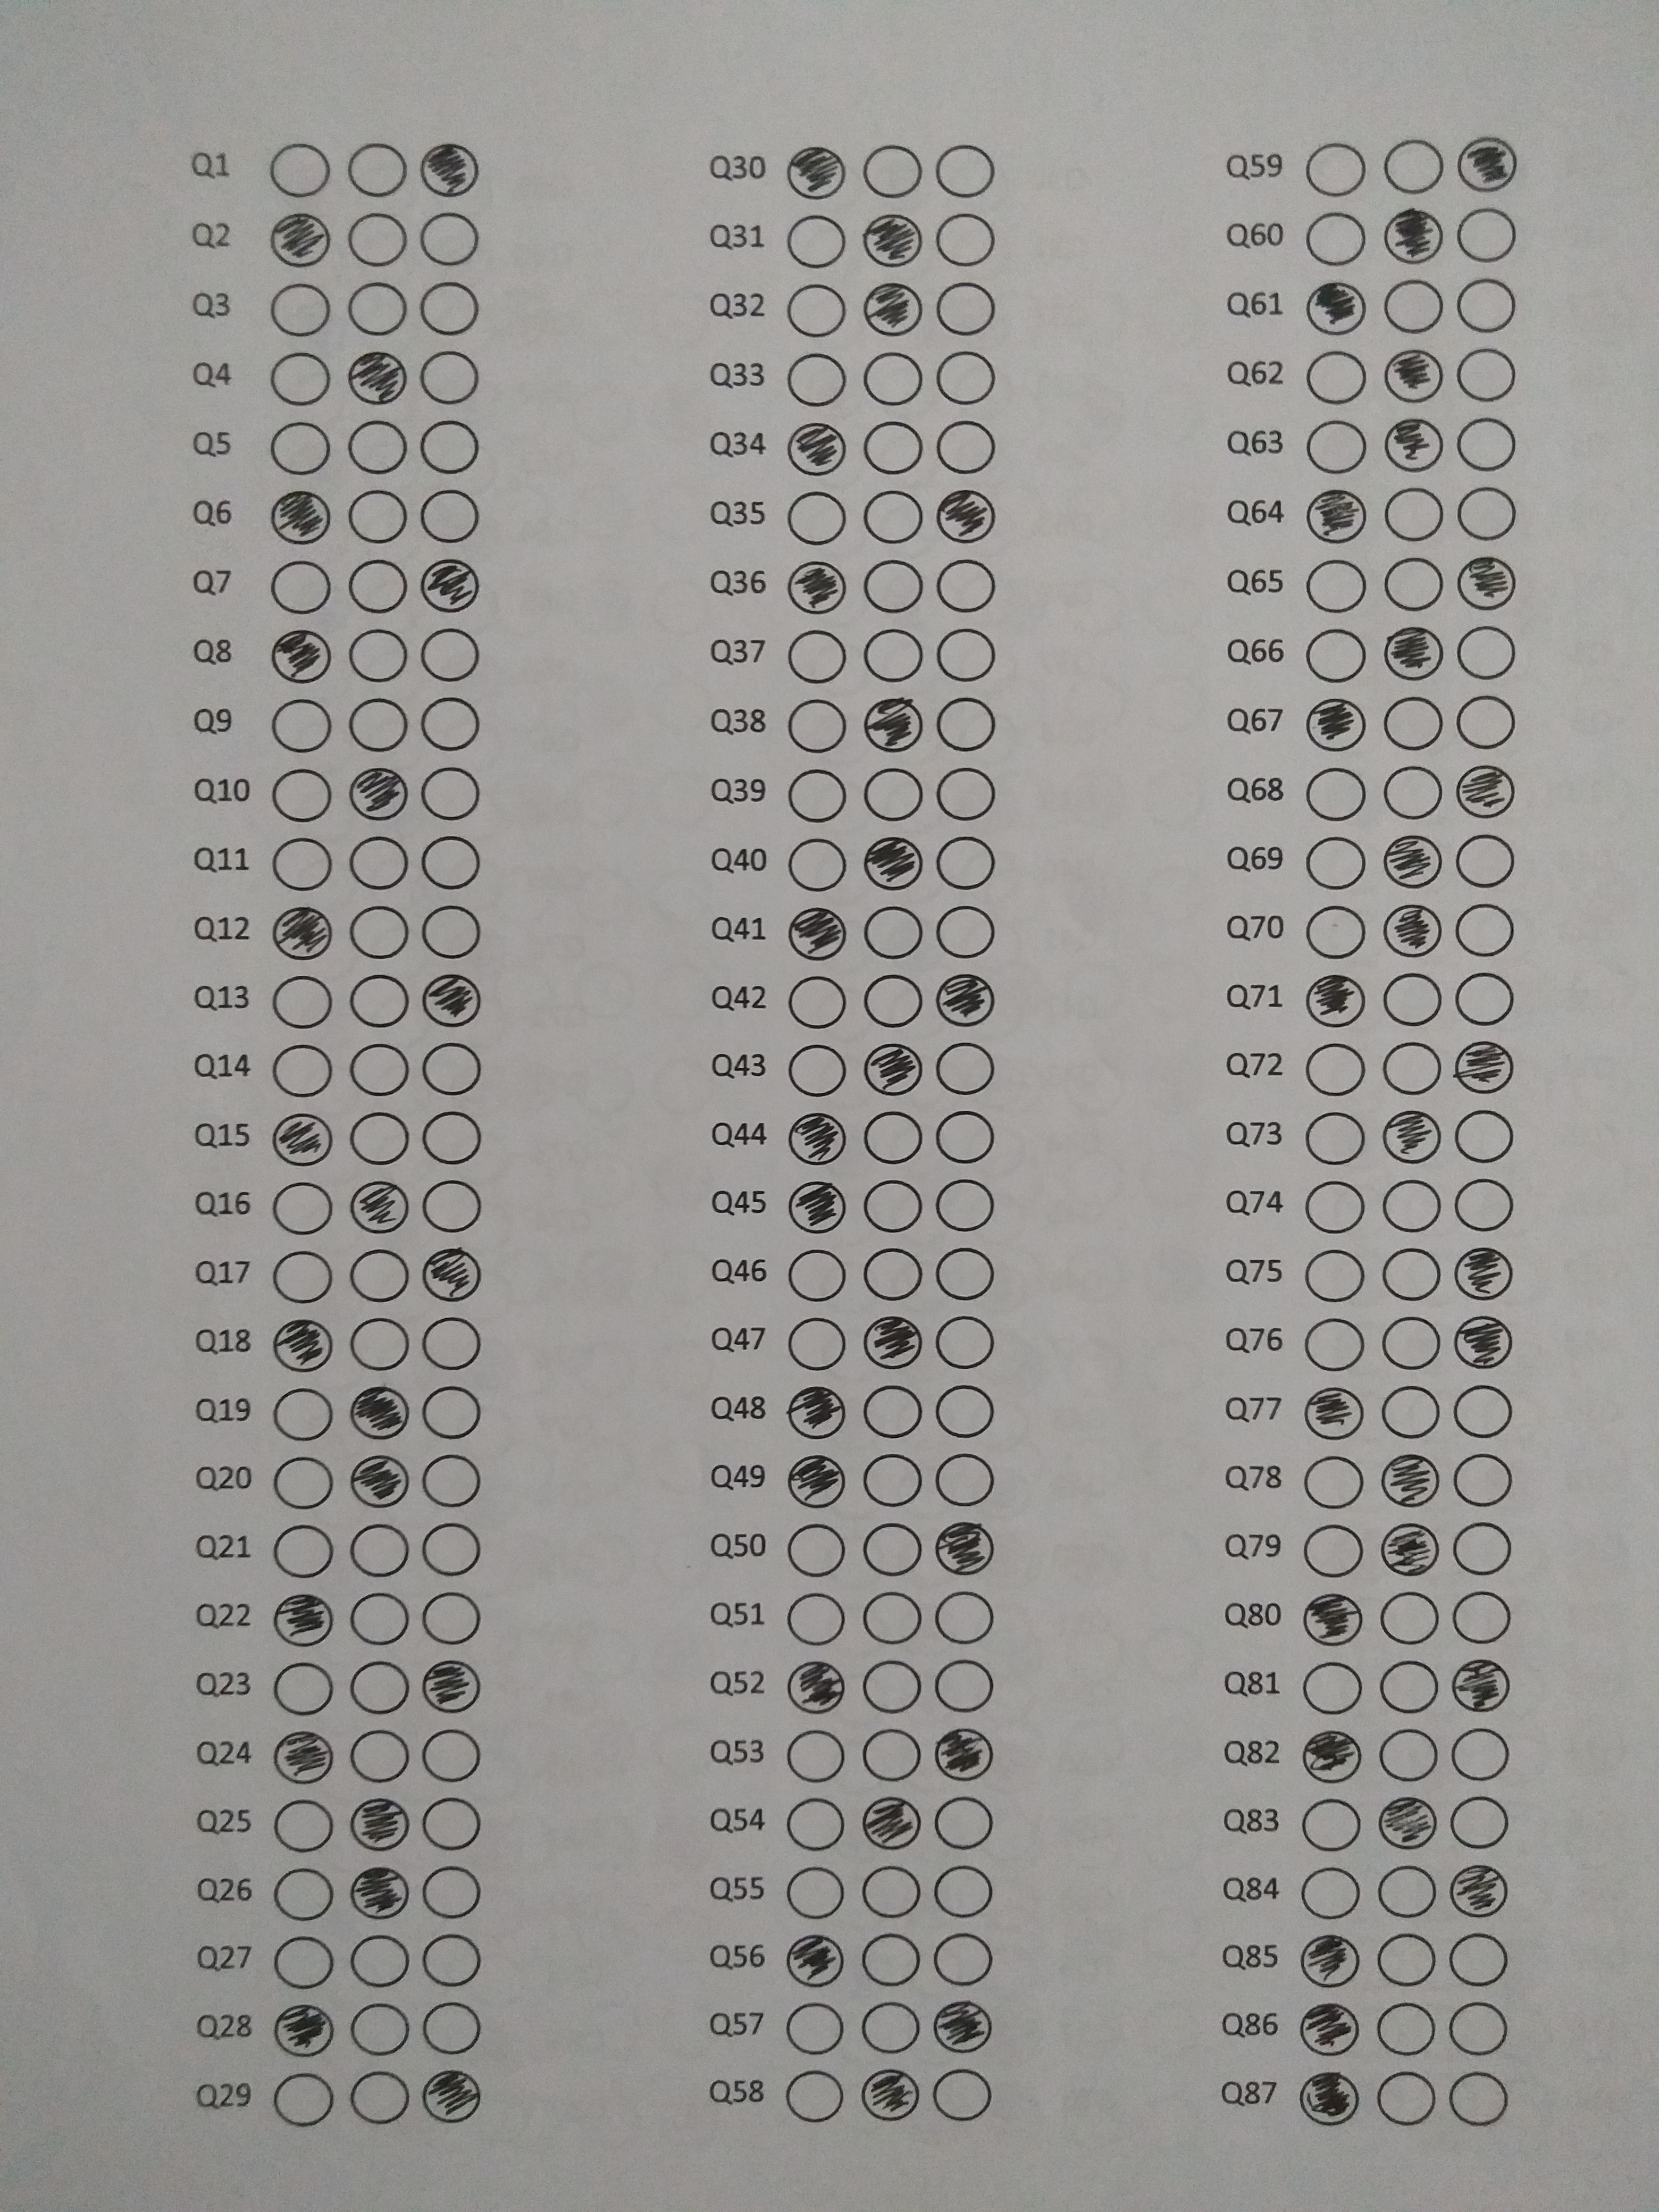not-c: (420, 1176, 484, 1233), (784, 697, 849, 754), (782, 489, 847, 547), (347, 1109, 411, 1167), (418, 1106, 483, 1163), (349, 972, 413, 1029), (345, 900, 410, 958), (270, 766, 335, 824), (270, 697, 335, 754), (343, 486, 408, 543), (416, 350, 481, 408), (345, 416, 410, 474), (268, 348, 333, 406), (268, 282, 333, 340), (416, 280, 481, 338), (349, 1933, 413, 1991), (270, 1864, 335, 1921), (272, 1797, 336, 1855), (418, 1792, 483, 1850), (420, 1726, 484, 1784), (347, 1726, 411, 1784), (347, 1658, 411, 1716), (272, 1658, 336, 1716), (349, 1521, 413, 1578), (420, 1454, 484, 1512), (418, 1381, 483, 1439), (347, 2069, 411, 2127), (782, 2000, 847, 2057), (861, 1998, 925, 2055), (857, 1177, 922, 1235), (857, 1247, 922, 1305), (932, 1315, 997, 1372), (782, 1245, 847, 1303), (782, 1315, 847, 1372), (932, 1383, 997, 1440), (859, 1521, 924, 1578), (931, 1588, 995, 1646), (931, 1656, 995, 1714), (782, 1728, 847, 1785), (932, 1930, 997, 1987), (1302, 143, 1366, 200), (932, 211, 997, 268), (859, 421, 924, 479), (936, 420, 1000, 477), (863, 625, 927, 683), (936, 766, 1000, 824), (861, 906, 925, 963), (861, 972, 925, 1029), (1378, 968, 1443, 1026), (1450, 970, 1514, 1028), (1453, 900, 1518, 958), (1303, 629, 1368, 686), (1305, 418, 1370, 475), (1453, 347, 1518, 404), (1452, 207, 1516, 265), (1446, 1930, 1511, 1987), (1297, 1797, 1361, 1855), (1448, 1794, 1513, 1851), (1377, 1658, 1441, 1716), (1375, 1590, 1439, 1648), (1452, 1108, 1516, 1165), (1378, 1038, 1443, 1096), (1378, 1247, 1443, 1305), (1305, 1177, 1370, 1235), (1450, 1176, 1514, 1233), (1302, 1111, 1366, 1169), (1373, 2069, 1438, 2127), (1373, 1932, 1438, 1989), (268, 141, 331, 199), (781, 629, 843, 686), (349, 1042, 411, 1099), (420, 834, 483, 892), (420, 902, 483, 960), (420, 625, 483, 683), (345, 625, 408, 683), (418, 486, 481, 543), (345, 279, 408, 336), (420, 211, 483, 268), (345, 141, 408, 199), (274, 1932, 336, 1989), (420, 1864, 483, 1921), (349, 1588, 411, 1646), (422, 1312, 484, 1369), (418, 1996, 481, 2054), (861, 1109, 924, 1167), (934, 1176, 997, 1233), (786, 1590, 849, 1648), (934, 1796, 997, 1853), (786, 1797, 849, 1855), (859, 1862, 922, 1919), (784, 2066, 847, 2123), (1450, 2069, 1513, 2127), (1305, 348, 1368, 406), (861, 143, 924, 200), (934, 280, 997, 338), (863, 765, 925, 822), (934, 693, 997, 751), (934, 902, 997, 960), (789, 974, 852, 1031), (1303, 834, 1366, 892), (1382, 763, 1445, 820), (1452, 691, 1514, 749), (1380, 695, 1443, 752), (1455, 486, 1518, 543), (1305, 557, 1368, 615), (1382, 554, 1445, 611), (1380, 277, 1443, 334), (1455, 275, 1518, 333), (1375, 1862, 1438, 1919), (1300, 1864, 1363, 1921), (1453, 1521, 1516, 1578), (1380, 1385, 1443, 1442), (1380, 1313, 1443, 1371), (1303, 1247, 1366, 1305), (1380, 1177, 1443, 1235), (1375, 2000, 1438, 2057), (1448, 2000, 1511, 2057), (781, 838, 845, 894), (782, 766, 847, 822), (268, 1181, 333, 1237), (270, 974, 335, 1029), (270, 838, 335, 894), (349, 833, 413, 888), (418, 766, 483, 822), (345, 697, 410, 752), (268, 559, 333, 615), (415, 420, 479, 475), (267, 421, 331, 477), (345, 211, 410, 266), (418, 1521, 483, 1576), (272, 1522, 336, 1578), (272, 1386, 336, 1442), (268, 1249, 333, 1305), (270, 2071, 335, 2127), (347, 2000, 411, 2055), (422, 1933, 486, 1989), (931, 2067, 995, 2123), (932, 1040, 997, 1096), (788, 1043, 852, 1099), (932, 1454, 997, 1510), (861, 1453, 925, 1508), (784, 1522, 849, 1578), (857, 1590, 922, 1646), (857, 1658, 922, 1714), (784, 1862, 849, 1918), (861, 491, 925, 547), (931, 143, 995, 199), (784, 282, 849, 338), (784, 354, 849, 409), (857, 350, 922, 406), (1298, 214, 1363, 270), (861, 557, 925, 613), (1305, 904, 1370, 960), (1453, 833, 1518, 888), (1453, 415, 1518, 470), (1382, 138, 1446, 193), (1300, 1662, 1364, 1717), (1448, 1590, 1513, 1646), (1302, 1524, 1366, 1580), (1303, 1042, 1368, 1097), (1448, 1454, 1513, 1510), (1452, 1383, 1516, 1439), (420, 1042, 483, 1097), (272, 1043, 335, 1099), (418, 693, 481, 749), (347, 557, 410, 613), (423, 1590, 486, 1646), (274, 1454, 336, 1510), (349, 1315, 411, 1371), (347, 1247, 410, 1303), (861, 1932, 924, 1987), (932, 1111, 995, 1167), (936, 1249, 999, 1305), (1303, 1454, 1366, 1510), (857, 1726, 920, 1782), (932, 1864, 995, 1919), (784, 214, 847, 270), (934, 350, 997, 406), (932, 627, 995, 683), (934, 557, 997, 613), (934, 836, 997, 892), (1303, 765, 1366, 820), (1455, 624, 1518, 679), (1391, 1731, 1453, 1787), (1448, 1723, 1511, 1778), (1302, 1317, 1364, 1372), (1382, 486, 1443, 542)
taken-c: (1455, 132, 1520, 197), (1452, 1313, 1514, 1374), (859, 1792, 924, 1851), (1297, 2071, 1361, 2130), (1380, 1106, 1445, 1165), (1303, 486, 1368, 545), (1382, 415, 1446, 474), (268, 489, 335, 547), (268, 906, 335, 963), (268, 1111, 335, 1169), (270, 1590, 336, 1648), (1373, 1792, 1439, 1850), (1452, 1245, 1518, 1303), (1380, 624, 1446, 681), (863, 279, 924, 340), (1455, 1036, 1516, 1097), (272, 627, 335, 686), (418, 970, 481, 1029), (349, 1383, 411, 1442), (1380, 1451, 1443, 1510), (1305, 695, 1368, 754), (1307, 279, 1370, 338), (1384, 207, 1446, 266), (416, 141, 481, 199), (863, 697, 927, 754), (270, 1317, 335, 1374), (863, 1040, 927, 1097), (418, 2067, 483, 2125), (1297, 2001, 1361, 2059), (1300, 1730, 1364, 1787), (1382, 904, 1446, 961), (857, 212, 924, 268), (782, 1454, 849, 1510), (274, 1728, 335, 1787), (934, 1519, 995, 1578), (786, 906, 849, 963), (934, 488, 997, 545), (786, 420, 849, 477), (786, 145, 849, 202), (422, 1245, 484, 1303), (786, 1385, 849, 1442), (786, 561, 850, 617), (347, 1796, 411, 1851), (1382, 833, 1446, 888), (1453, 765, 1518, 820), (267, 212, 333, 266), (861, 838, 927, 892), (347, 350, 408, 408), (349, 1177, 410, 1235), (350, 1453, 411, 1510), (422, 1658, 483, 1716), (349, 1865, 410, 1923), (1302, 1590, 1363, 1648), (418, 559, 481, 615), (349, 765, 411, 820), (934, 972, 997, 1028), (1380, 1522, 1443, 1578), (1455, 556, 1518, 611), (1384, 348, 1446, 404), (1298, 1933, 1363, 1987), (1302, 974, 1366, 1028), (1452, 1656, 1511, 1714), (786, 1660, 847, 1716), (1448, 1864, 1509, 1919), (1305, 1386, 1366, 1442), (931, 2000, 993, 2054), (272, 2005, 336, 2057), (863, 1313, 922, 1369), (934, 1728, 993, 1784), (861, 2066, 920, 2121), (788, 1179, 849, 1233), (782, 1935, 845, 1987), (788, 1111, 847, 1165)
